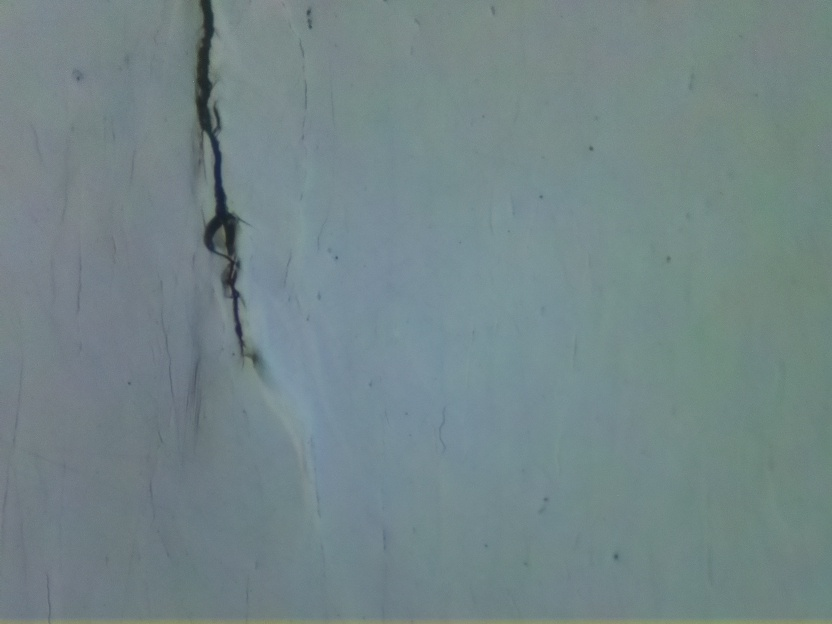crack: (195, 0, 251, 356)
